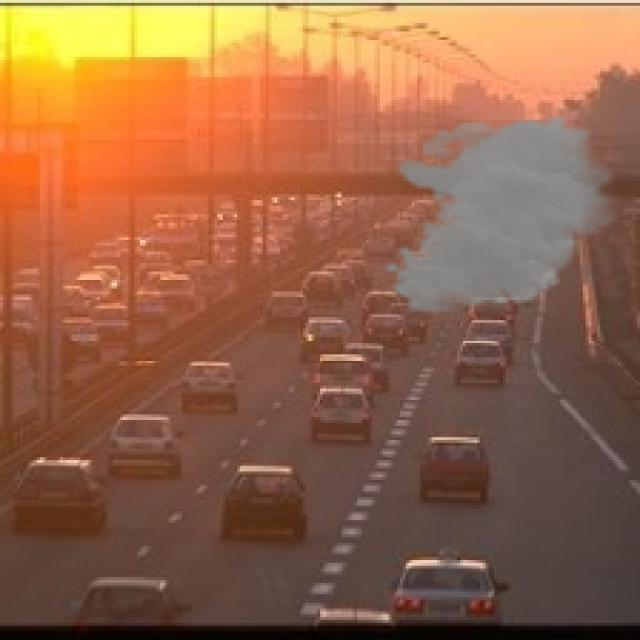smoke: (383, 114, 626, 314)
